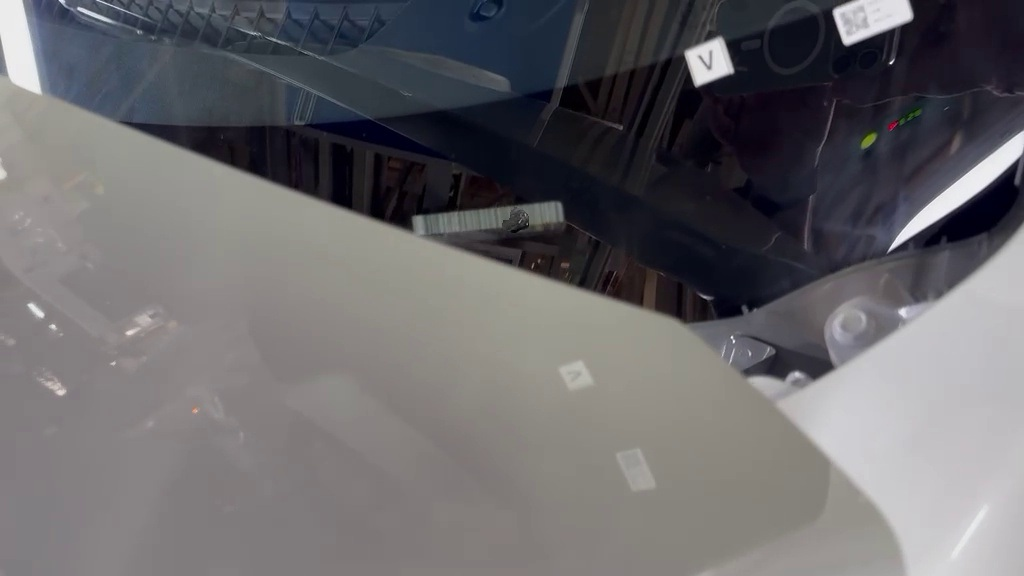hinge: (390, 191, 596, 253)
